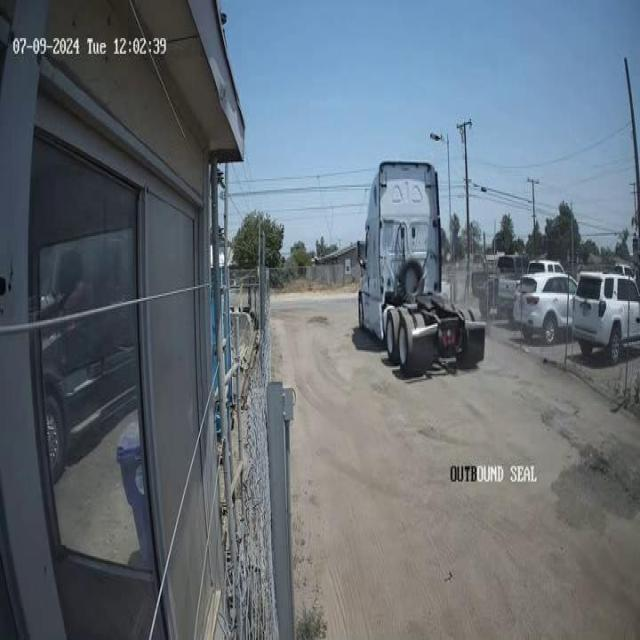TRUCK_OUT: (356, 159, 486, 376)
